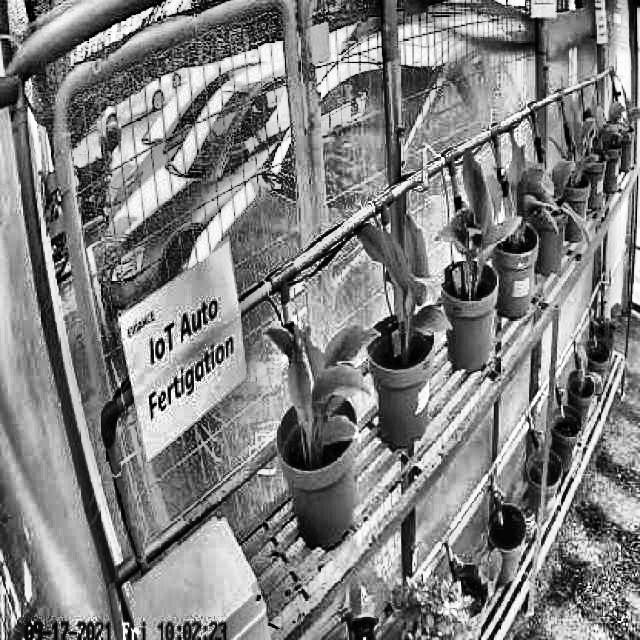plants: (268, 312, 381, 465), (352, 212, 450, 360), (432, 151, 522, 304), (495, 152, 560, 258)
